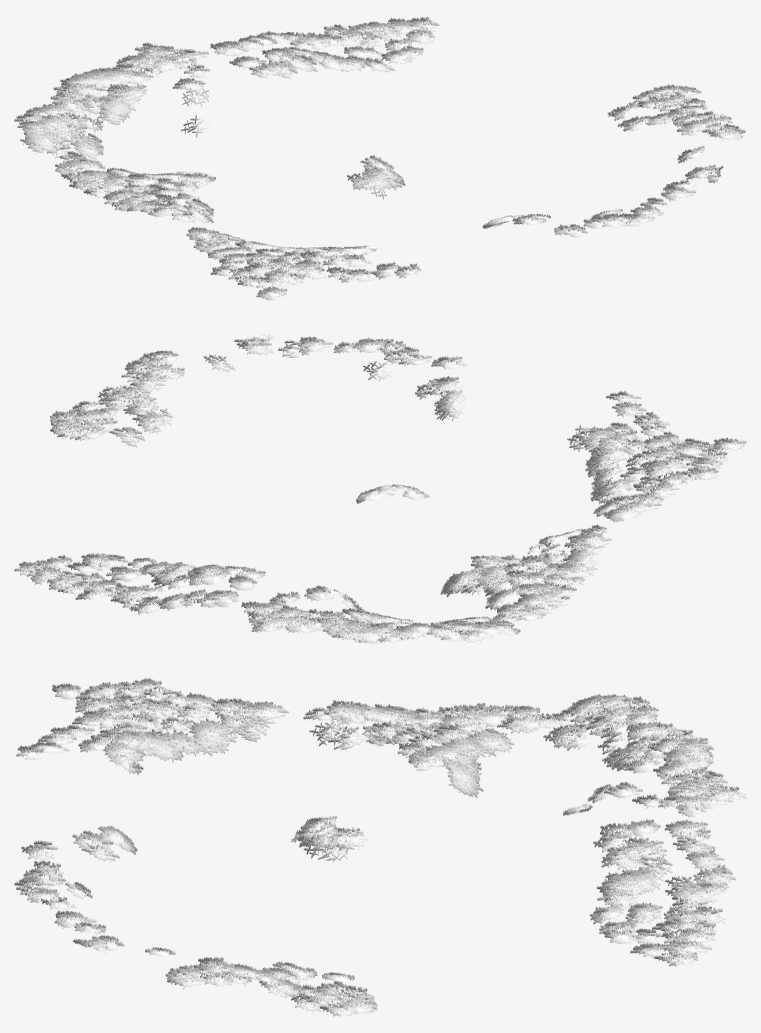
File: grassprefab2.fbx
3 views of the same model, one above another, from view 1: azimuth 30°, elevation 25°; view 2: azimuth 150°, elevation 25°; view 3: azimuth 270°, elevation 25° (orthographic). The views are drawn at different scales.
Visible parts, largest first — view 1: GrassPrefab_Polybrush_Clone__661, GrassPrefab_Polybrush_Clone__479, GrassPrefab_Polybrush_Clone__628; view 2: GrassPrefab_Polybrush_Clone__661, GrassPrefab_Polybrush_Clone__628, GrassPrefab_Polybrush_Clone__479; view 3: GrassPrefab_Polybrush_Clone__661, GrassPrefab_Polybrush_Clone__479, GrassPrefab_Polybrush_Clone__628.
Boxes of the visible parts, x1,y1,x2,y2 form: GrassPrefab_Polybrush_Clone__661: (14, 42, 421, 301); GrassPrefab_Polybrush_Clone__479: (210, 16, 439, 78); GrassPrefab_Polybrush_Clone__628: (482, 84, 745, 237); GrassPrefab_Polybrush_Clone__661: (241, 390, 746, 643); GrassPrefab_Polybrush_Clone__628: (50, 333, 466, 447); GrassPrefab_Polybrush_Clone__479: (14, 553, 265, 614); GrassPrefab_Polybrush_Clone__661: (16, 678, 746, 861); GrassPrefab_Polybrush_Clone__479: (590, 819, 736, 966); GrassPrefab_Polybrush_Clone__628: (14, 825, 377, 1016).
Size of the model in its own units: 7298 by 641 by 7079.
1 material, 1 textured.
